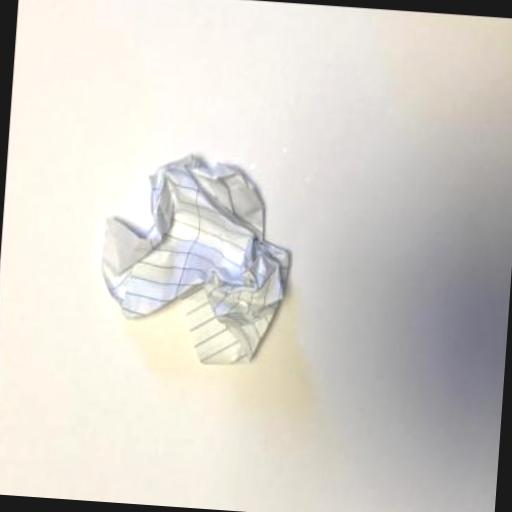paper: (90, 144, 296, 366)
